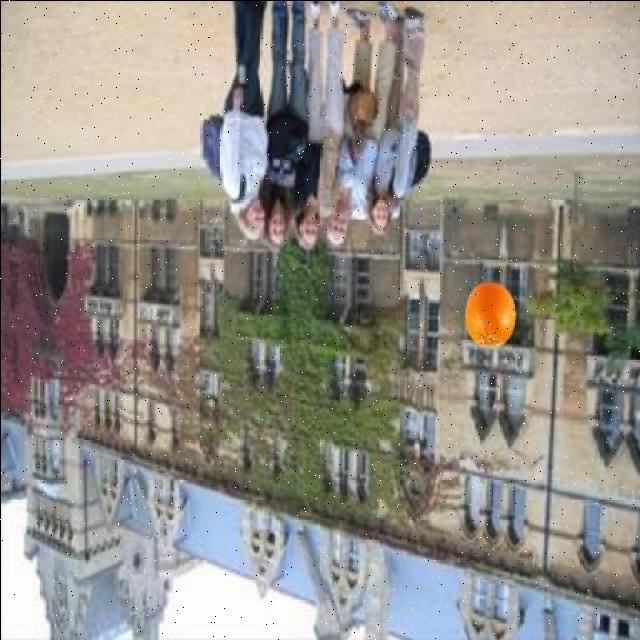Orange: (465, 282, 517, 350)
